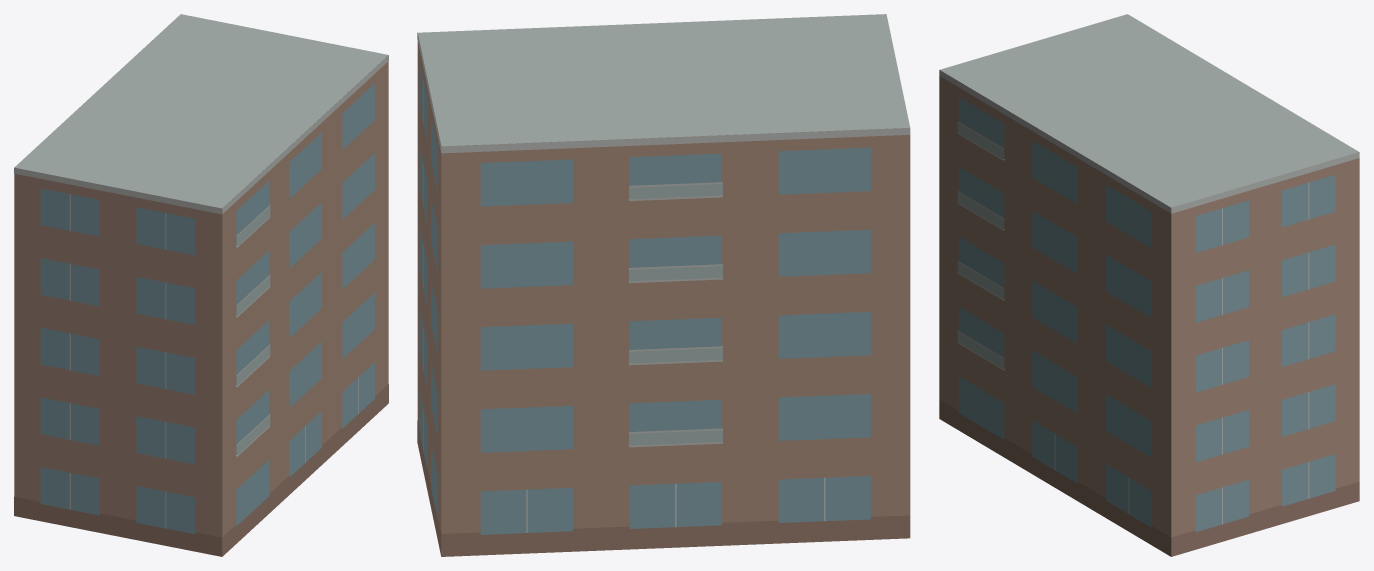
The model's file is survey-upis-32698888.glb.
3 views of the same model, side by side, from view 1: azimuth 30°, elevation 25°; view 2: azimuth 150°, elevation 25°; view 3: azimuth 270°, elevation 25° (orthographic). The views are drawn at different scales.
Parts seen in each view (by area): view 1: survey-upis-32698888.tmp; view 2: survey-upis-32698888.tmp; view 3: survey-upis-32698888.tmp.
Part boxes in pixels (box(x1,y1,x2,y2)): survey-upis-32698888.tmp: box(14, 14, 388, 556); survey-upis-32698888.tmp: box(417, 14, 910, 556); survey-upis-32698888.tmp: box(939, 14, 1359, 556).
Bounding box in the file's own units: 17.04 × 14.3 × 15.6.
